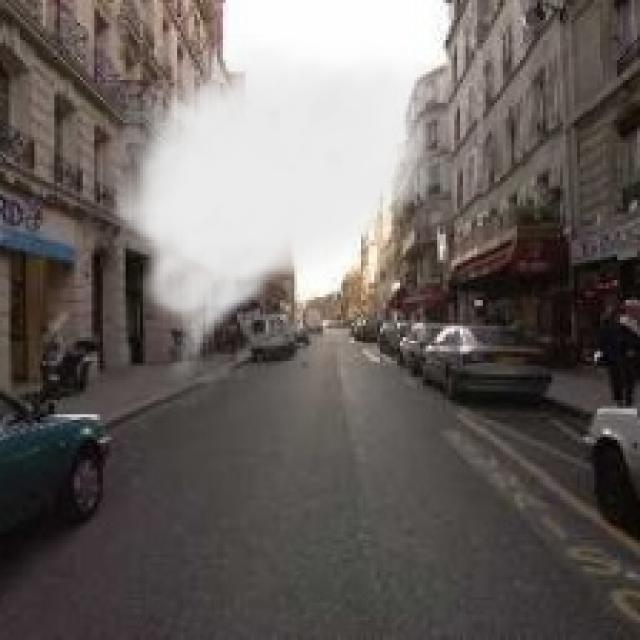smoke: (100, 34, 457, 386)
